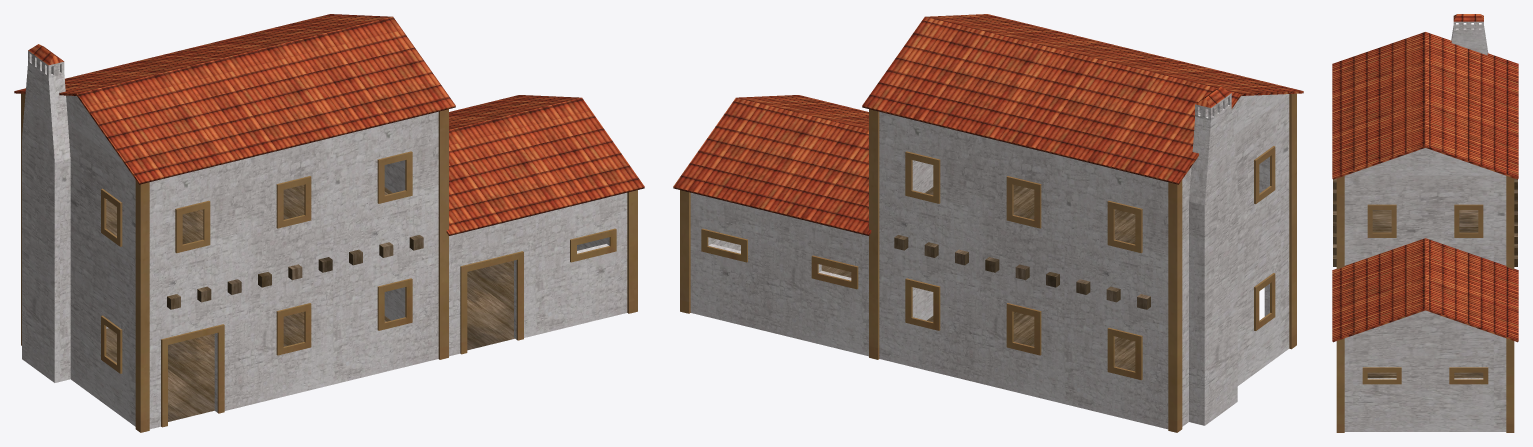
The model's file is house_a.glb.
3 views of the same model, side by side, from view 1: azimuth 30°, elevation 25°; view 2: azimuth 150°, elevation 25°; view 3: azimuth 270°, elevation 25° (orthographic). The views are drawn at different scales.
Visible parts, largest first — view 1: prefab; view 2: prefab; view 3: prefab.
Boxes of the visible parts, x1,y1,x2,y2 form: prefab: (14,14,644,432); prefab: (673,14,1303,432); prefab: (1332,14,1518,432).
Bounding box in the file's own units: 15.5 × 9.2 × 6.55.
4 materials, 4 textured.
